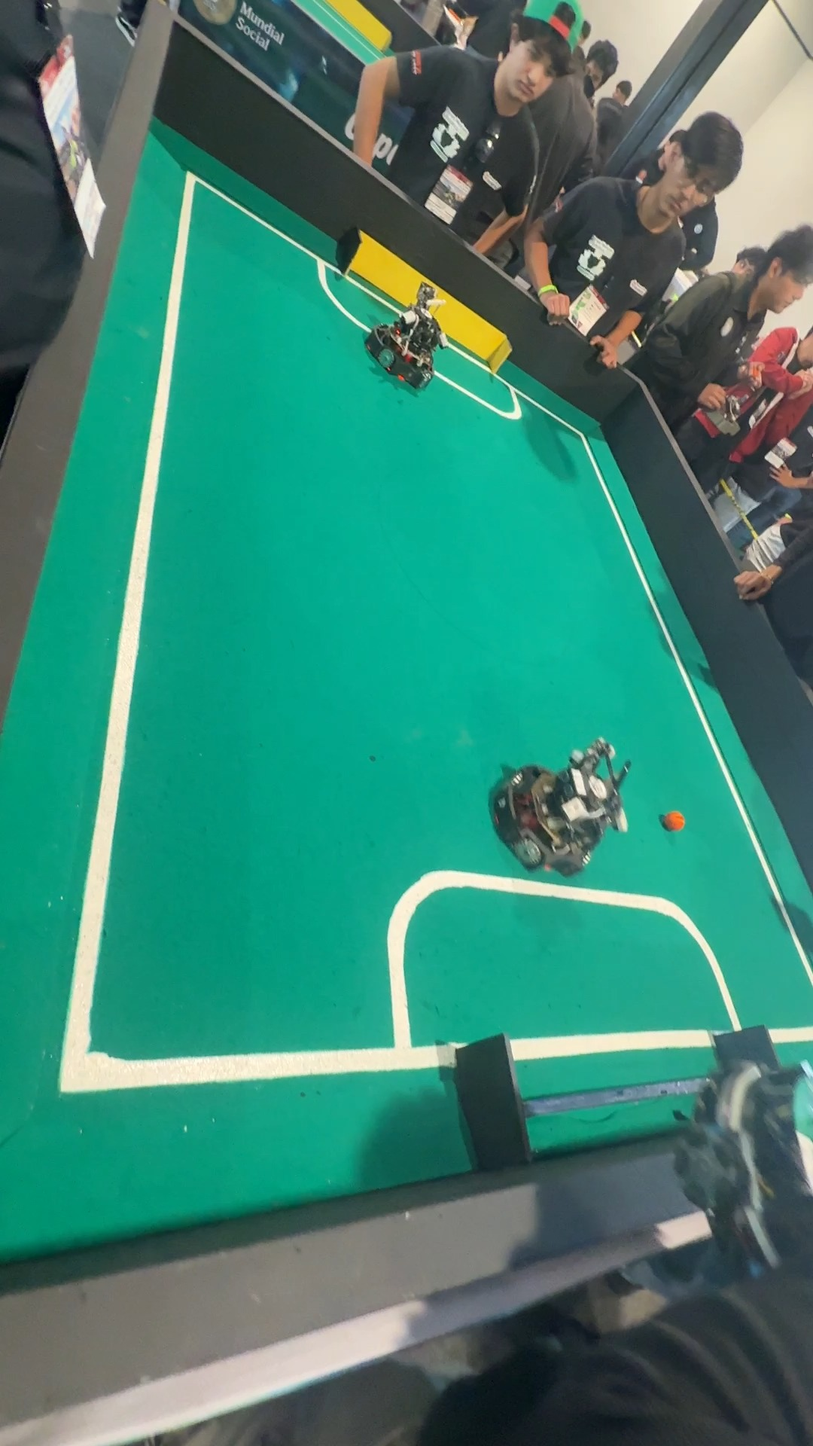Robot: (484, 716, 628, 884), (363, 276, 452, 401)
pelota: (667, 810, 688, 833)
